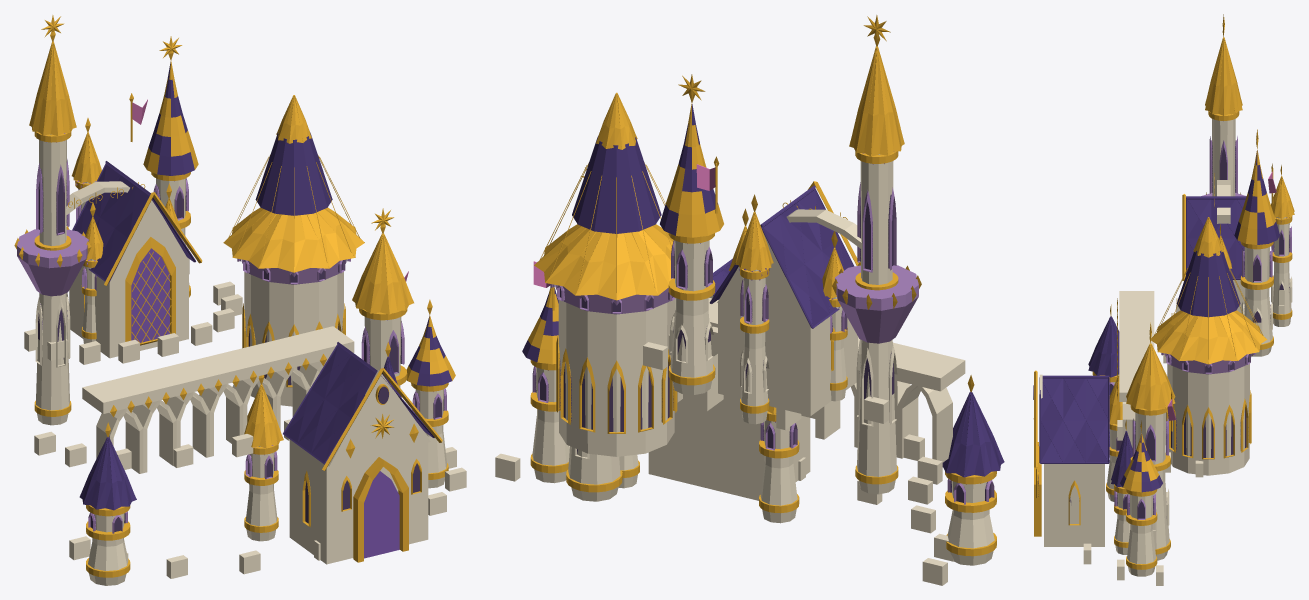
File: building.glb
3 views of the same model, side by side, from view 1: azimuth 30°, elevation 25°; view 2: azimuth 150°, elevation 25°; view 3: azimuth 270°, elevation 25° (orthographic). The views are drawn at different scales.
Parts seen in each view (by area): view 1: 18_R3A_Canterlot_StaggeredHallsAndVariedTowers, 18_R3A_Canterlot_FoldedGoldFacades; view 2: 18_R3A_Canterlot_StaggeredHallsAndVariedTowers, 18_R3A_Canterlot_FoldedGoldFacades; view 3: 18_R3A_Canterlot_StaggeredHallsAndVariedTowers, 18_R3A_Canterlot_FoldedGoldFacades.
Part boxes in pixels (bbox=[...]): 18_R3A_Canterlot_StaggeredHallsAndVariedTowers: bbox=[17, 31, 455, 585]; 18_R3A_Canterlot_FoldedGoldFacades: bbox=[14, 15, 466, 578]; 18_R3A_Canterlot_StaggeredHallsAndVariedTowers: bbox=[522, 34, 1004, 565]; 18_R3A_Canterlot_FoldedGoldFacades: bbox=[495, 15, 953, 585]; 18_R3A_Canterlot_StaggeredHallsAndVariedTowers: bbox=[1039, 30, 1294, 576]; 18_R3A_Canterlot_FoldedGoldFacades: bbox=[1033, 14, 1276, 585].
Size of the model in its own units: 1.26 by 1.54 by 0.859.
